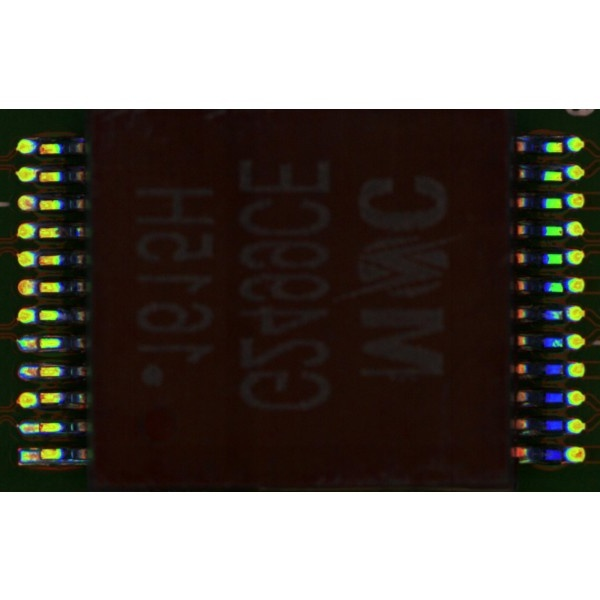Bad_podu: (29, 339, 47, 348), (28, 451, 48, 459), (27, 426, 49, 432), (29, 368, 47, 375)
